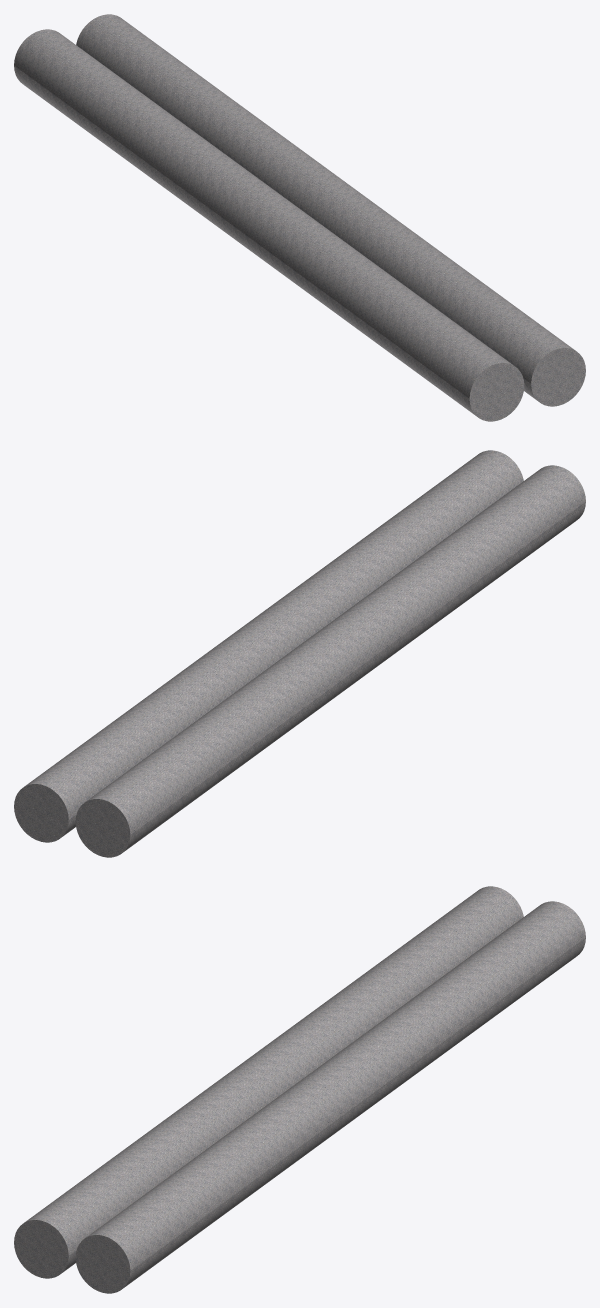
The picture shows the model from 3 angles, top to bottom: view 1: azimuth 30°, elevation 25°; view 2: azimuth 150°, elevation 25°; view 3: azimuth 330°, elevation 25°; orthographic projection.
Visible parts, largest first — view 1: 0_3_1_2_1_3_2_0_1; view 2: 0_3_1_2_1_3_2_0_1; view 3: 0_3_1_2_1_3_2_0_1.
Boxes of the visible parts, box(x1,y1,x2,y2) form: 0_3_1_2_1_3_2_0_1: box(14, 14, 585, 421); 0_3_1_2_1_3_2_0_1: box(14, 450, 585, 857); 0_3_1_2_1_3_2_0_1: box(14, 886, 585, 1293).
Size of the model in its own units: 1.7 by 0.8 by 11.53.
2 materials, 2 textured.
